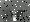person: (18, 8, 24, 20), (13, 12, 18, 21)
